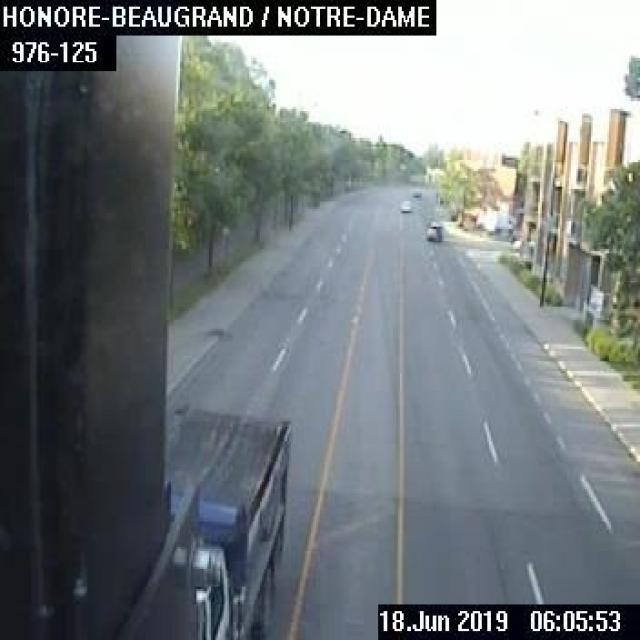vehicle: (169, 400, 287, 638), (424, 221, 444, 239), (398, 196, 412, 211)
